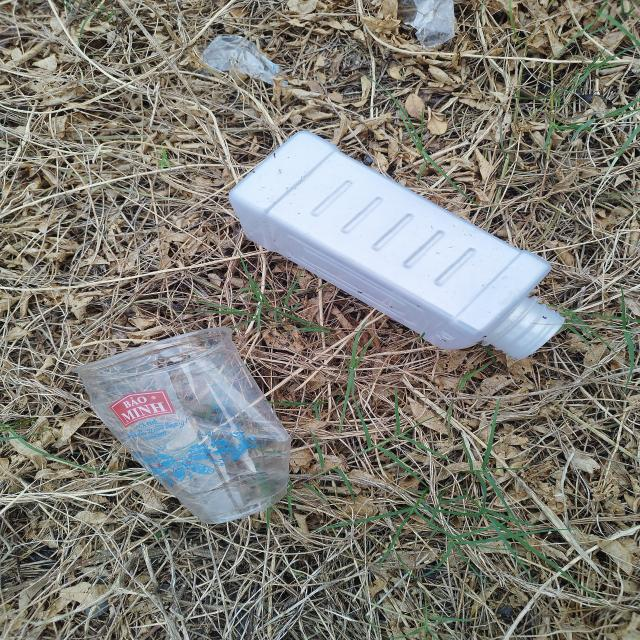bottle: (227, 132, 563, 360)
plastic glass: (75, 324, 293, 523)
